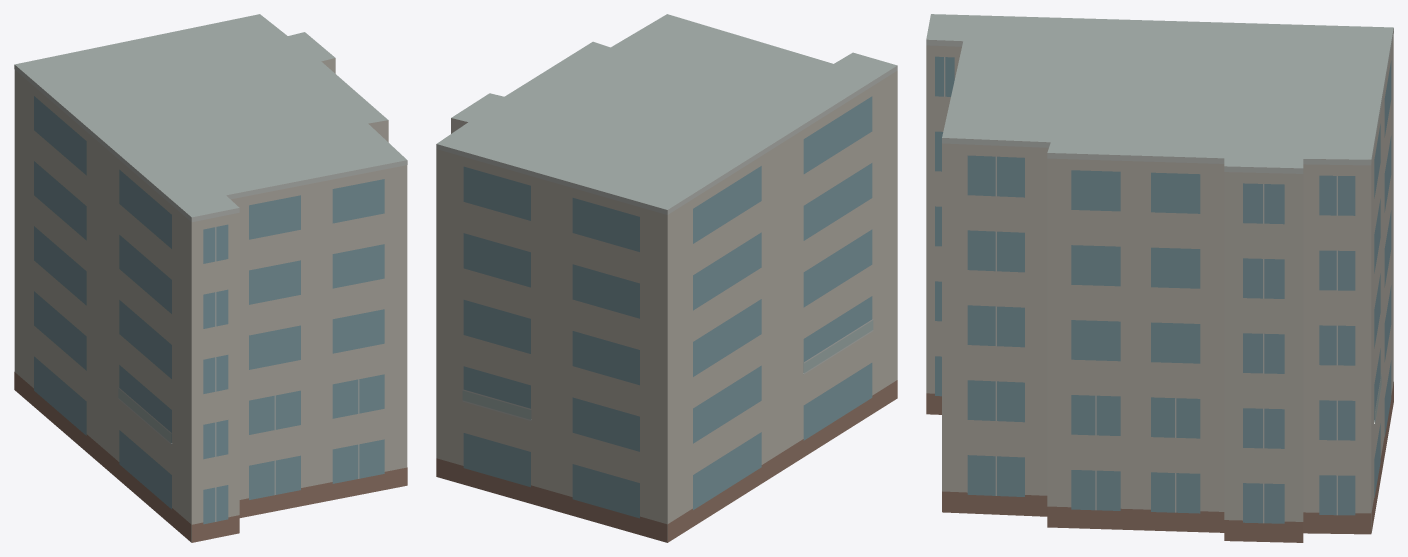
The model's file is survey-upis-32764483.glb.
The picture shows the model from 3 angles, left to right: view 1: azimuth 30°, elevation 25°; view 2: azimuth 150°, elevation 25°; view 3: azimuth 270°, elevation 25°; orthographic projection. The views are drawn at different scales.
Visible parts, largest first — view 1: survey-upis-32764483.tmp; view 2: survey-upis-32764483.tmp; view 3: survey-upis-32764483.tmp.
Boxes of the visible parts, x1=… form: survey-upis-32764483.tmp: x1=14, y1=14, x2=407, y2=542; survey-upis-32764483.tmp: x1=436, y1=14, x2=897, y2=542; survey-upis-32764483.tmp: x1=926, y1=14, x2=1393, y2=542.
Bounding box in the file's own units: 14.33 × 16.2 × 18.34.
